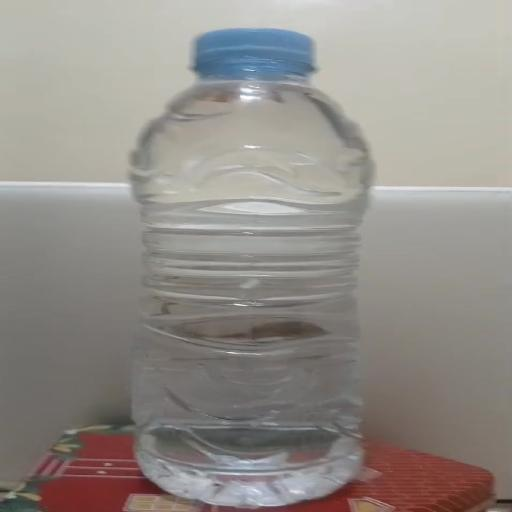bouteille non conformite: (141, 39, 401, 512), (106, 210, 406, 355)
